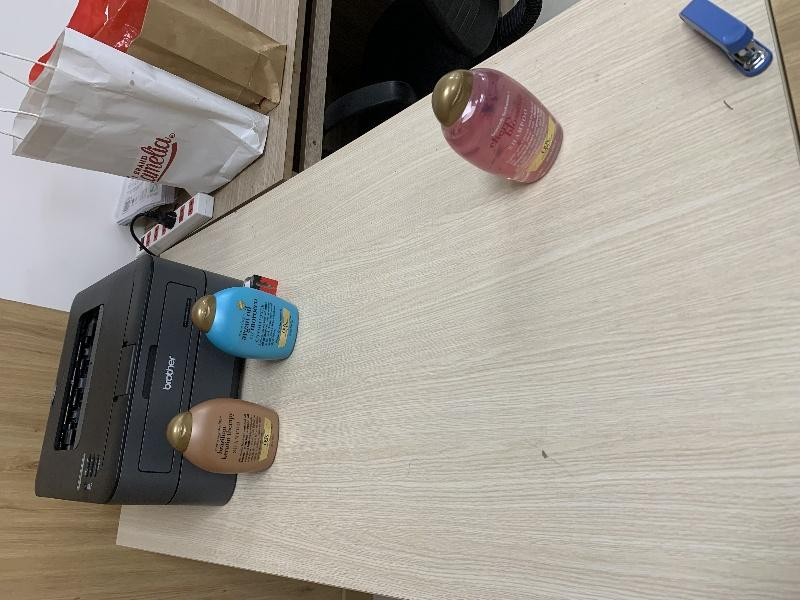ArganOilOfMorocco_Conditioner: (191, 287, 299, 360)
BrazilianKeratinTherapy_Shampoo: (165, 398, 279, 474)
CherryBlossom_Shampoo: (431, 67, 564, 184)
